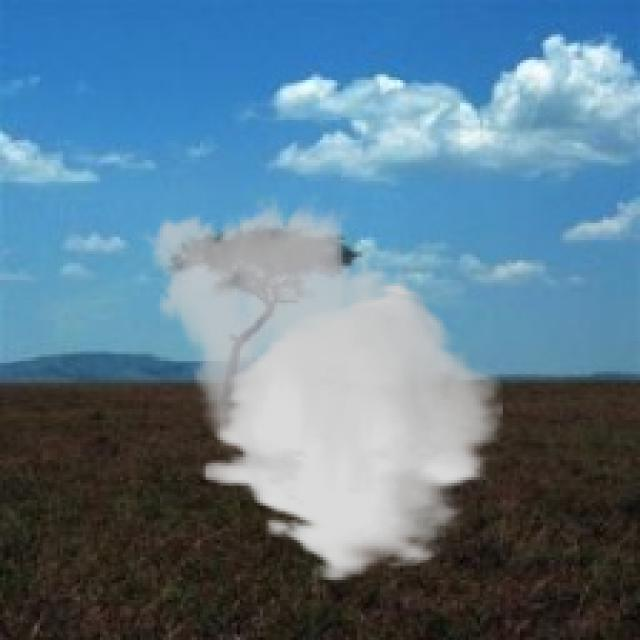Smoke: (134, 191, 503, 583)
